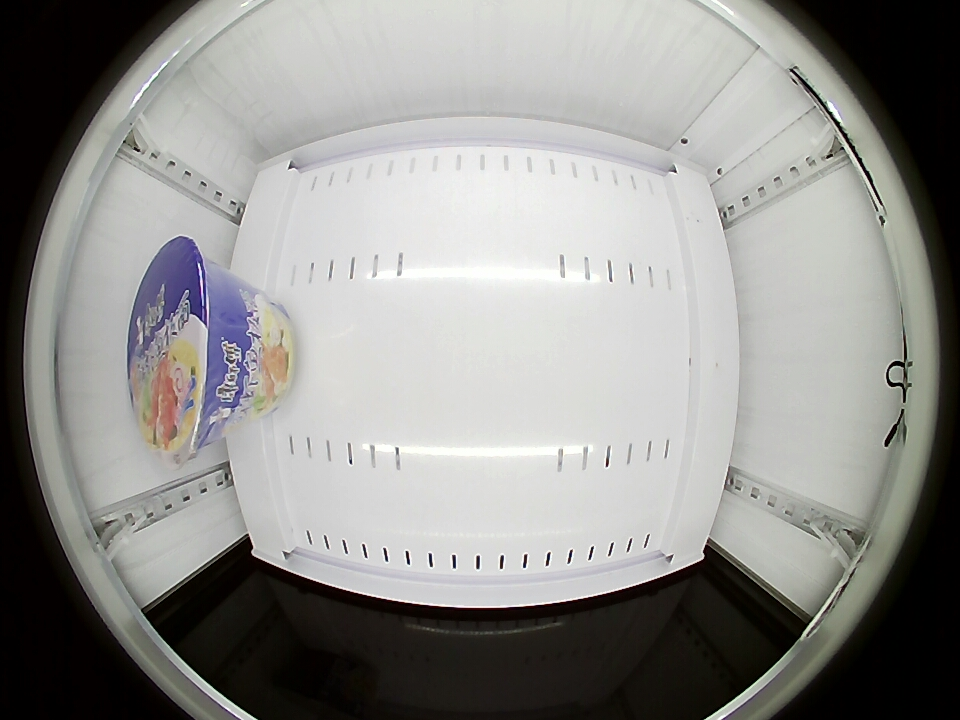xianxiayuban: (129, 238, 251, 460)
